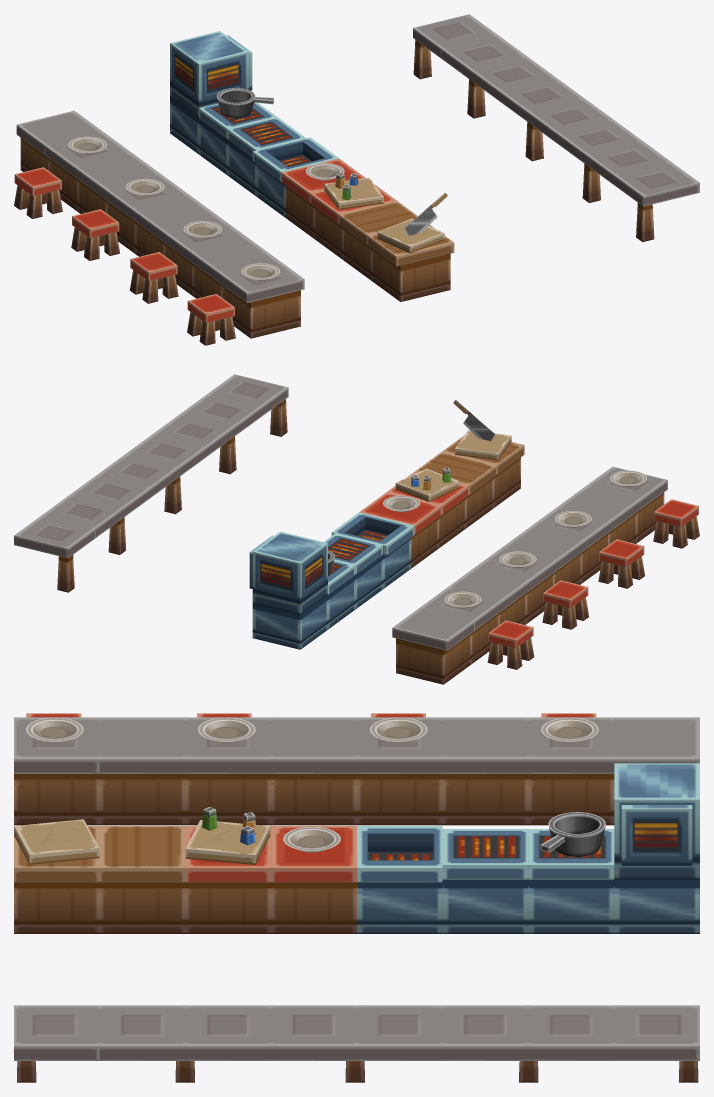
File: TestMesh.FBX
3 views of the same model, one above another, from view 1: azimuth 30°, elevation 25°; view 2: azimuth 150°, elevation 25°; view 3: azimuth 270°, elevation 25° (orthographic). The views are drawn at different scales.
Parts seen in each view (by area): view 1: Counter; view 2: Counter; view 3: Counter.
Part boxes in pixels (x1=…): Counter: x1=14, y1=14, x2=699, y2=345; Counter: x1=14, y1=374, x2=699, y2=684; Counter: x1=14, y1=713, x2=699, y2=1082.
Bounding box in the file's own units: 16.13 × 2.84 × 13.12.
